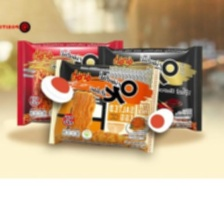snack: (43, 52, 167, 156), (11, 34, 128, 130), (93, 40, 207, 135)
